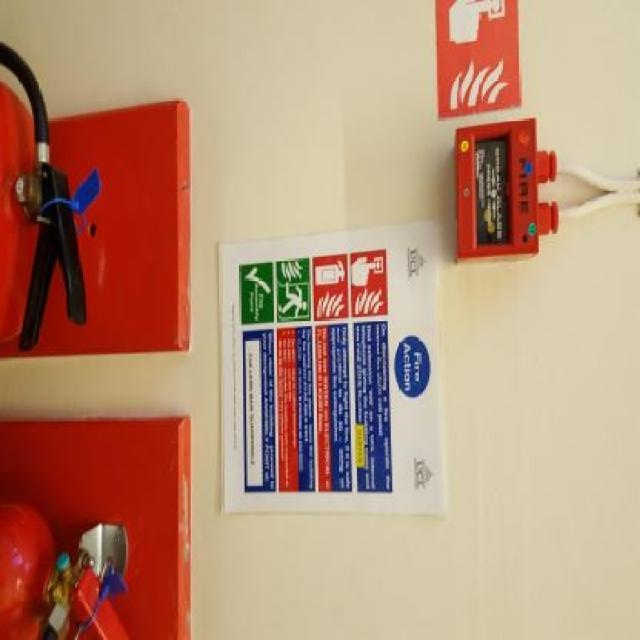fire extinguisher: (0, 42, 88, 350), (4, 498, 124, 634)
